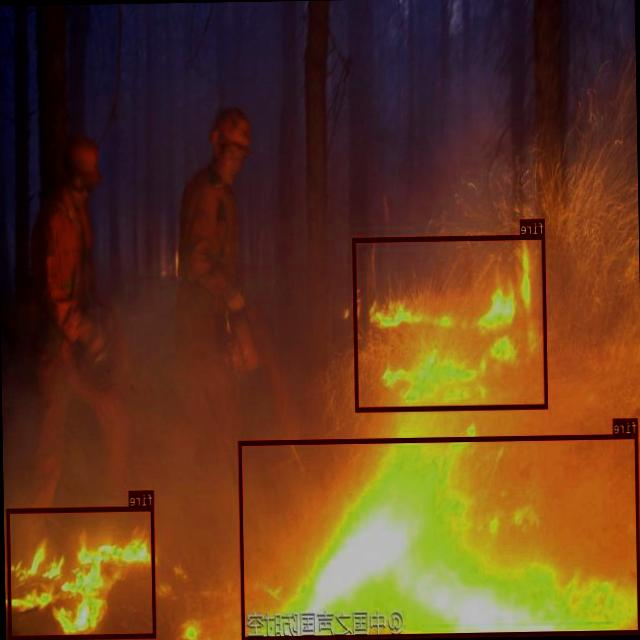fire: (239, 433, 640, 639), (353, 234, 548, 410), (7, 504, 156, 639)
